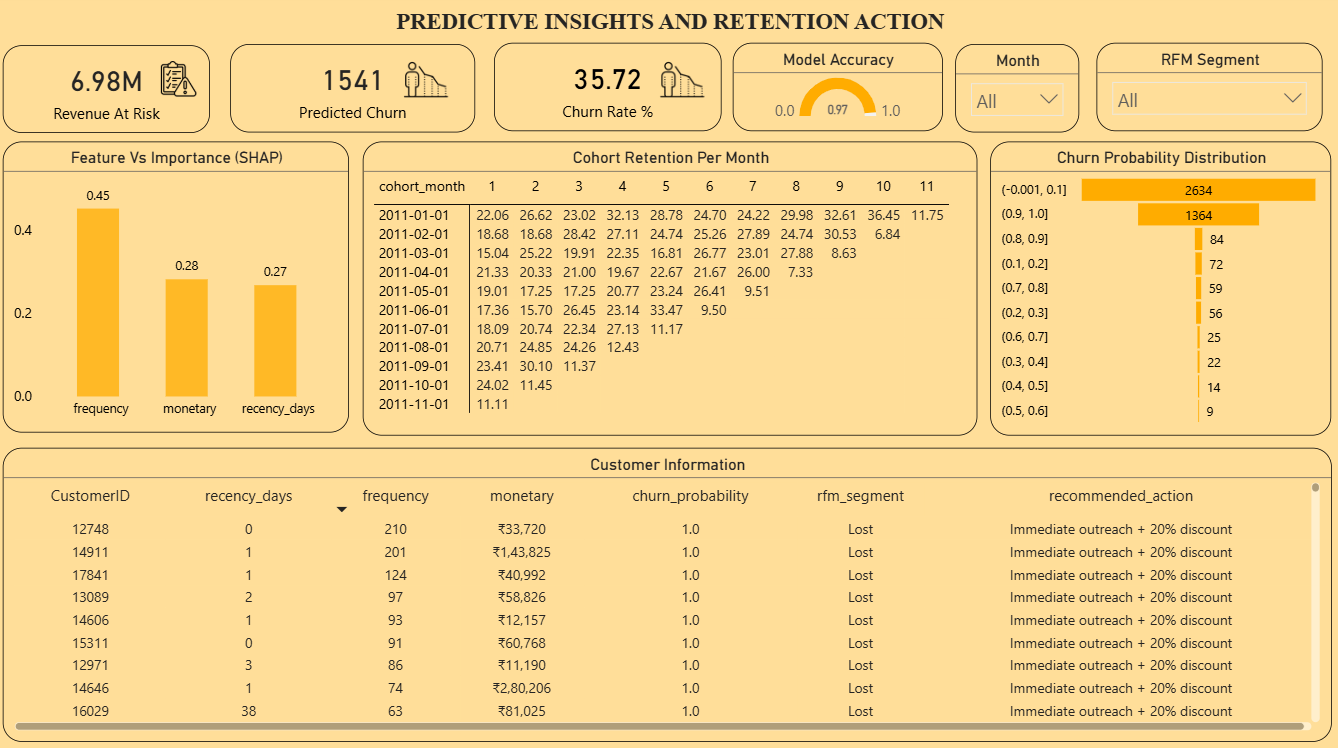

This screenshot's page, from the dashboard's own definition file:
{"tool":"powerbi","page":{"name":"Page 2","canvas":[1420,800],"ordinal":1},"visuals":[{"type":"clusteredColumnChart","title":"Feature Vs Importance (SHAP)","fields":{"Category":["customer_analytics feature_importance.feature"],"Y":["Sum(feature_importance.importance)"]},"box":[4,156.1,366.4,308.2],"z":0},{"type":"textbox","box":[0,10.6,1420.6,41],"z":1000},{"type":"pivotTable","title":"Cohort Retention Per Month","fields":{"Rows":["cohort_retention_rate.cohort_month"],"Columns":["cohort_retention_rate.months_since_cohort"],"Values":["Sum(cohort_retention_rate.retention_rate_pct)"]},"box":[384.9,156.1,650.8,310.8],"z":2000},{"type":"slicer","title":"Month","fields":{"Values":["customer_analytics churn_predictions.month"]},"box":[1011.9,52.4,131,93.9],"z":3000},{"type":"slicer","title":"RFM Segment","fields":{"Values":["rfm_segment.rfm_segment"]},"box":[1161.4,51.1,239.4,93.9],"z":4000},{"type":"tableEx","title":"Customer Information","fields":{"Values":["orders.CustomerID","rfm_base.recency_days","rfm_base.frequency","rfm_base.monetary","churn_predictions.churn_probability","rfm_segment.rfm_segment","top_at_risk_customers.recommended_action"]},"box":[4,480.2,1406.1,310.8],"z":5000},{"type":"funnel","title":"Churn Probability Distribution","fields":{"Category":["churn_histogram.bin_label"],"Y":["Sum(churn_histogram.customer_count)"]},"box":[1048.9,156.1,361.1,310.8],"z":6000},{"type":"card","fields":{"Values":["Date Table.Revenue At Risk"]},"box":[4,54.2,219.6,92.6],"z":7000},{"type":"card","fields":{"Values":["Date Table.Predicted Churn"]},"box":[244.7,52.4,259.3,93.9],"z":8000},{"type":"image","box":[156.1,65.6,67.5,47.6],"z":9000},{"type":"image","box":[422,59,59.5,60.8],"z":10000},{"type":"card","fields":{"Values":["Date Table.Churn Rate %"]},"box":[523.8,51.6,240.7,93.9],"z":11000},{"type":"image","box":[693.1,59.5,59.5,60.8],"z":12000},{"type":"gauge","fields":{"Y":["Date Table.Model Accuracy"]},"box":[776.5,51.6,222.2,93.9],"z":13000}]}

Visuals, with their boxes in screenshot pixels (x1, y1, x2, y2), scaled from the page's 1420x800 canvas onto the 1338x748 screenshot:
"Feature Vs Importance (SHAP)" clusteredColumnChart: detection(4, 146, 349, 434)
textbox: detection(0, 10, 1337, 48)
"Cohort Retention Per Month" pivotTable: detection(363, 146, 976, 437)
"Month" slicer: detection(953, 49, 1077, 137)
"RFM Segment" slicer: detection(1094, 48, 1320, 136)
"Customer Information" tableEx: detection(4, 449, 1329, 740)
"Churn Probability Distribution" funnel: detection(988, 146, 1329, 437)
card - Date Table.Revenue At Risk: detection(4, 51, 211, 137)
card - Date Table.Predicted Churn: detection(231, 49, 475, 137)
image: detection(147, 61, 211, 106)
image: detection(398, 55, 454, 112)
card - Date Table.Churn Rate %: detection(494, 48, 720, 136)
image: detection(653, 56, 709, 112)
gauge - Date Table.Model Accuracy: detection(732, 48, 941, 136)
